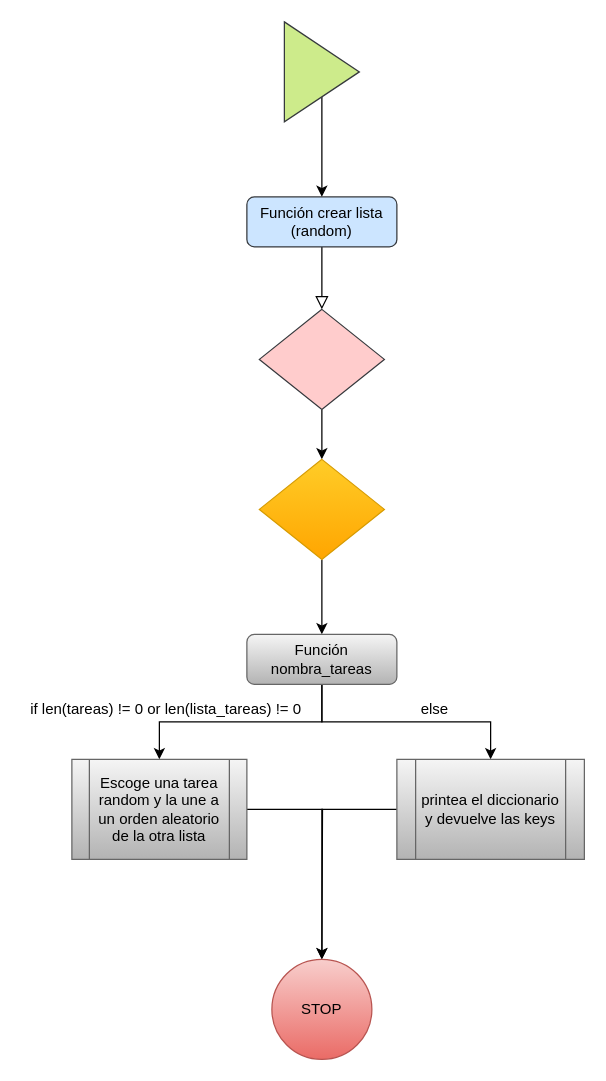
Image size: 606x1081. Some labels were removed from this diagram. Each missing label, with the box of its shape:
Función orrdear las tareas: (258, 308, 384, 409)
Se define la lista de tareas: (258, 458, 384, 559)
START: (283, 21, 359, 122)
